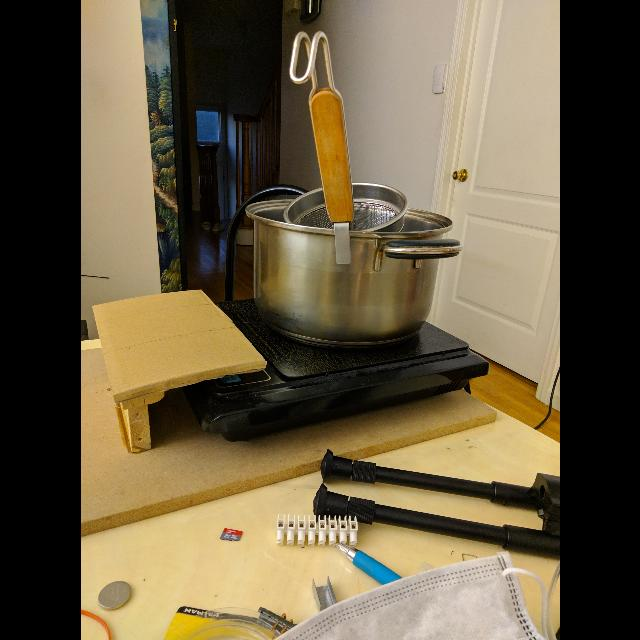Handle: (286, 30, 368, 226)
Strainer: (284, 175, 412, 232)
